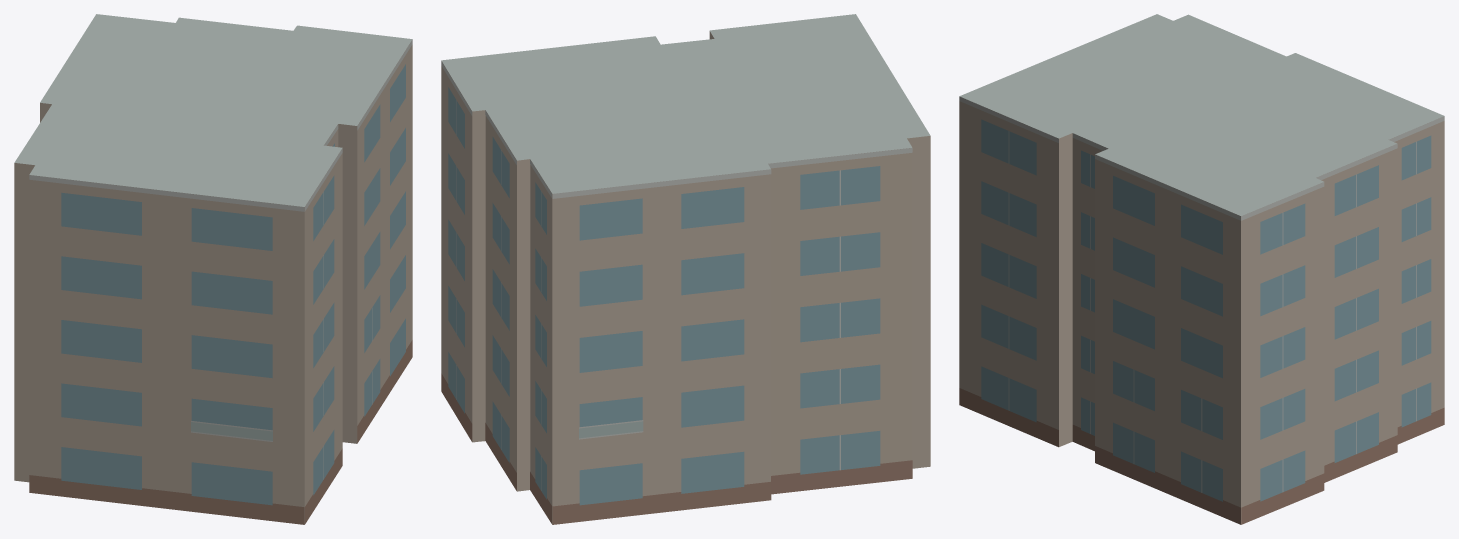
The model's file is survey-upis-32694745.glb.
3 renders of one model, left to right at view 1: azimuth 30°, elevation 25°; view 2: azimuth 150°, elevation 25°; view 3: azimuth 270°, elevation 25°, orthographic. The views are drawn at different scales.
Visible parts, largest first — view 1: survey-upis-32694745.tmp; view 2: survey-upis-32694745.tmp; view 3: survey-upis-32694745.tmp.
Part boxes in pixels (x1=…): survey-upis-32694745.tmp: x1=14, y1=14, x2=412, y2=524; survey-upis-32694745.tmp: x1=441, y1=14, x2=930, y2=524; survey-upis-32694745.tmp: x1=959, y1=14, x2=1444, y2=524.
Size of the model in its own units: 22.63 by 16.1 by 22.95.
